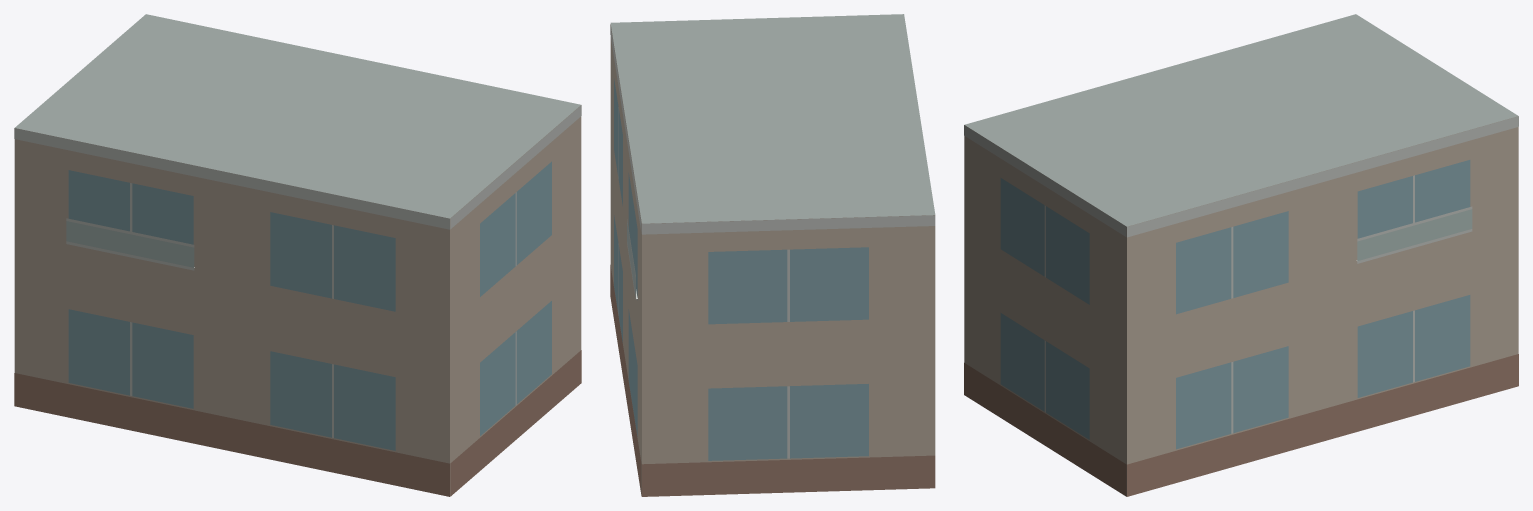
The model's file is survey-upis-32494838.glb.
The picture shows the model from 3 angles, left to right: view 1: azimuth 30°, elevation 25°; view 2: azimuth 150°, elevation 25°; view 3: azimuth 270°, elevation 25°; orthographic projection. The views are drawn at different scales.
Visible parts, largest first — view 1: survey-upis-32494838.tmp; view 2: survey-upis-32494838.tmp; view 3: survey-upis-32494838.tmp.
Boxes of the visible parts, x1=… form: survey-upis-32494838.tmp: x1=14, y1=14, x2=581, y2=496; survey-upis-32494838.tmp: x1=610, y1=14, x2=935, y2=496; survey-upis-32494838.tmp: x1=964, y1=14, x2=1518, y2=496.
Size of the model in its own units: 10.31 by 6.1 by 11.36.
